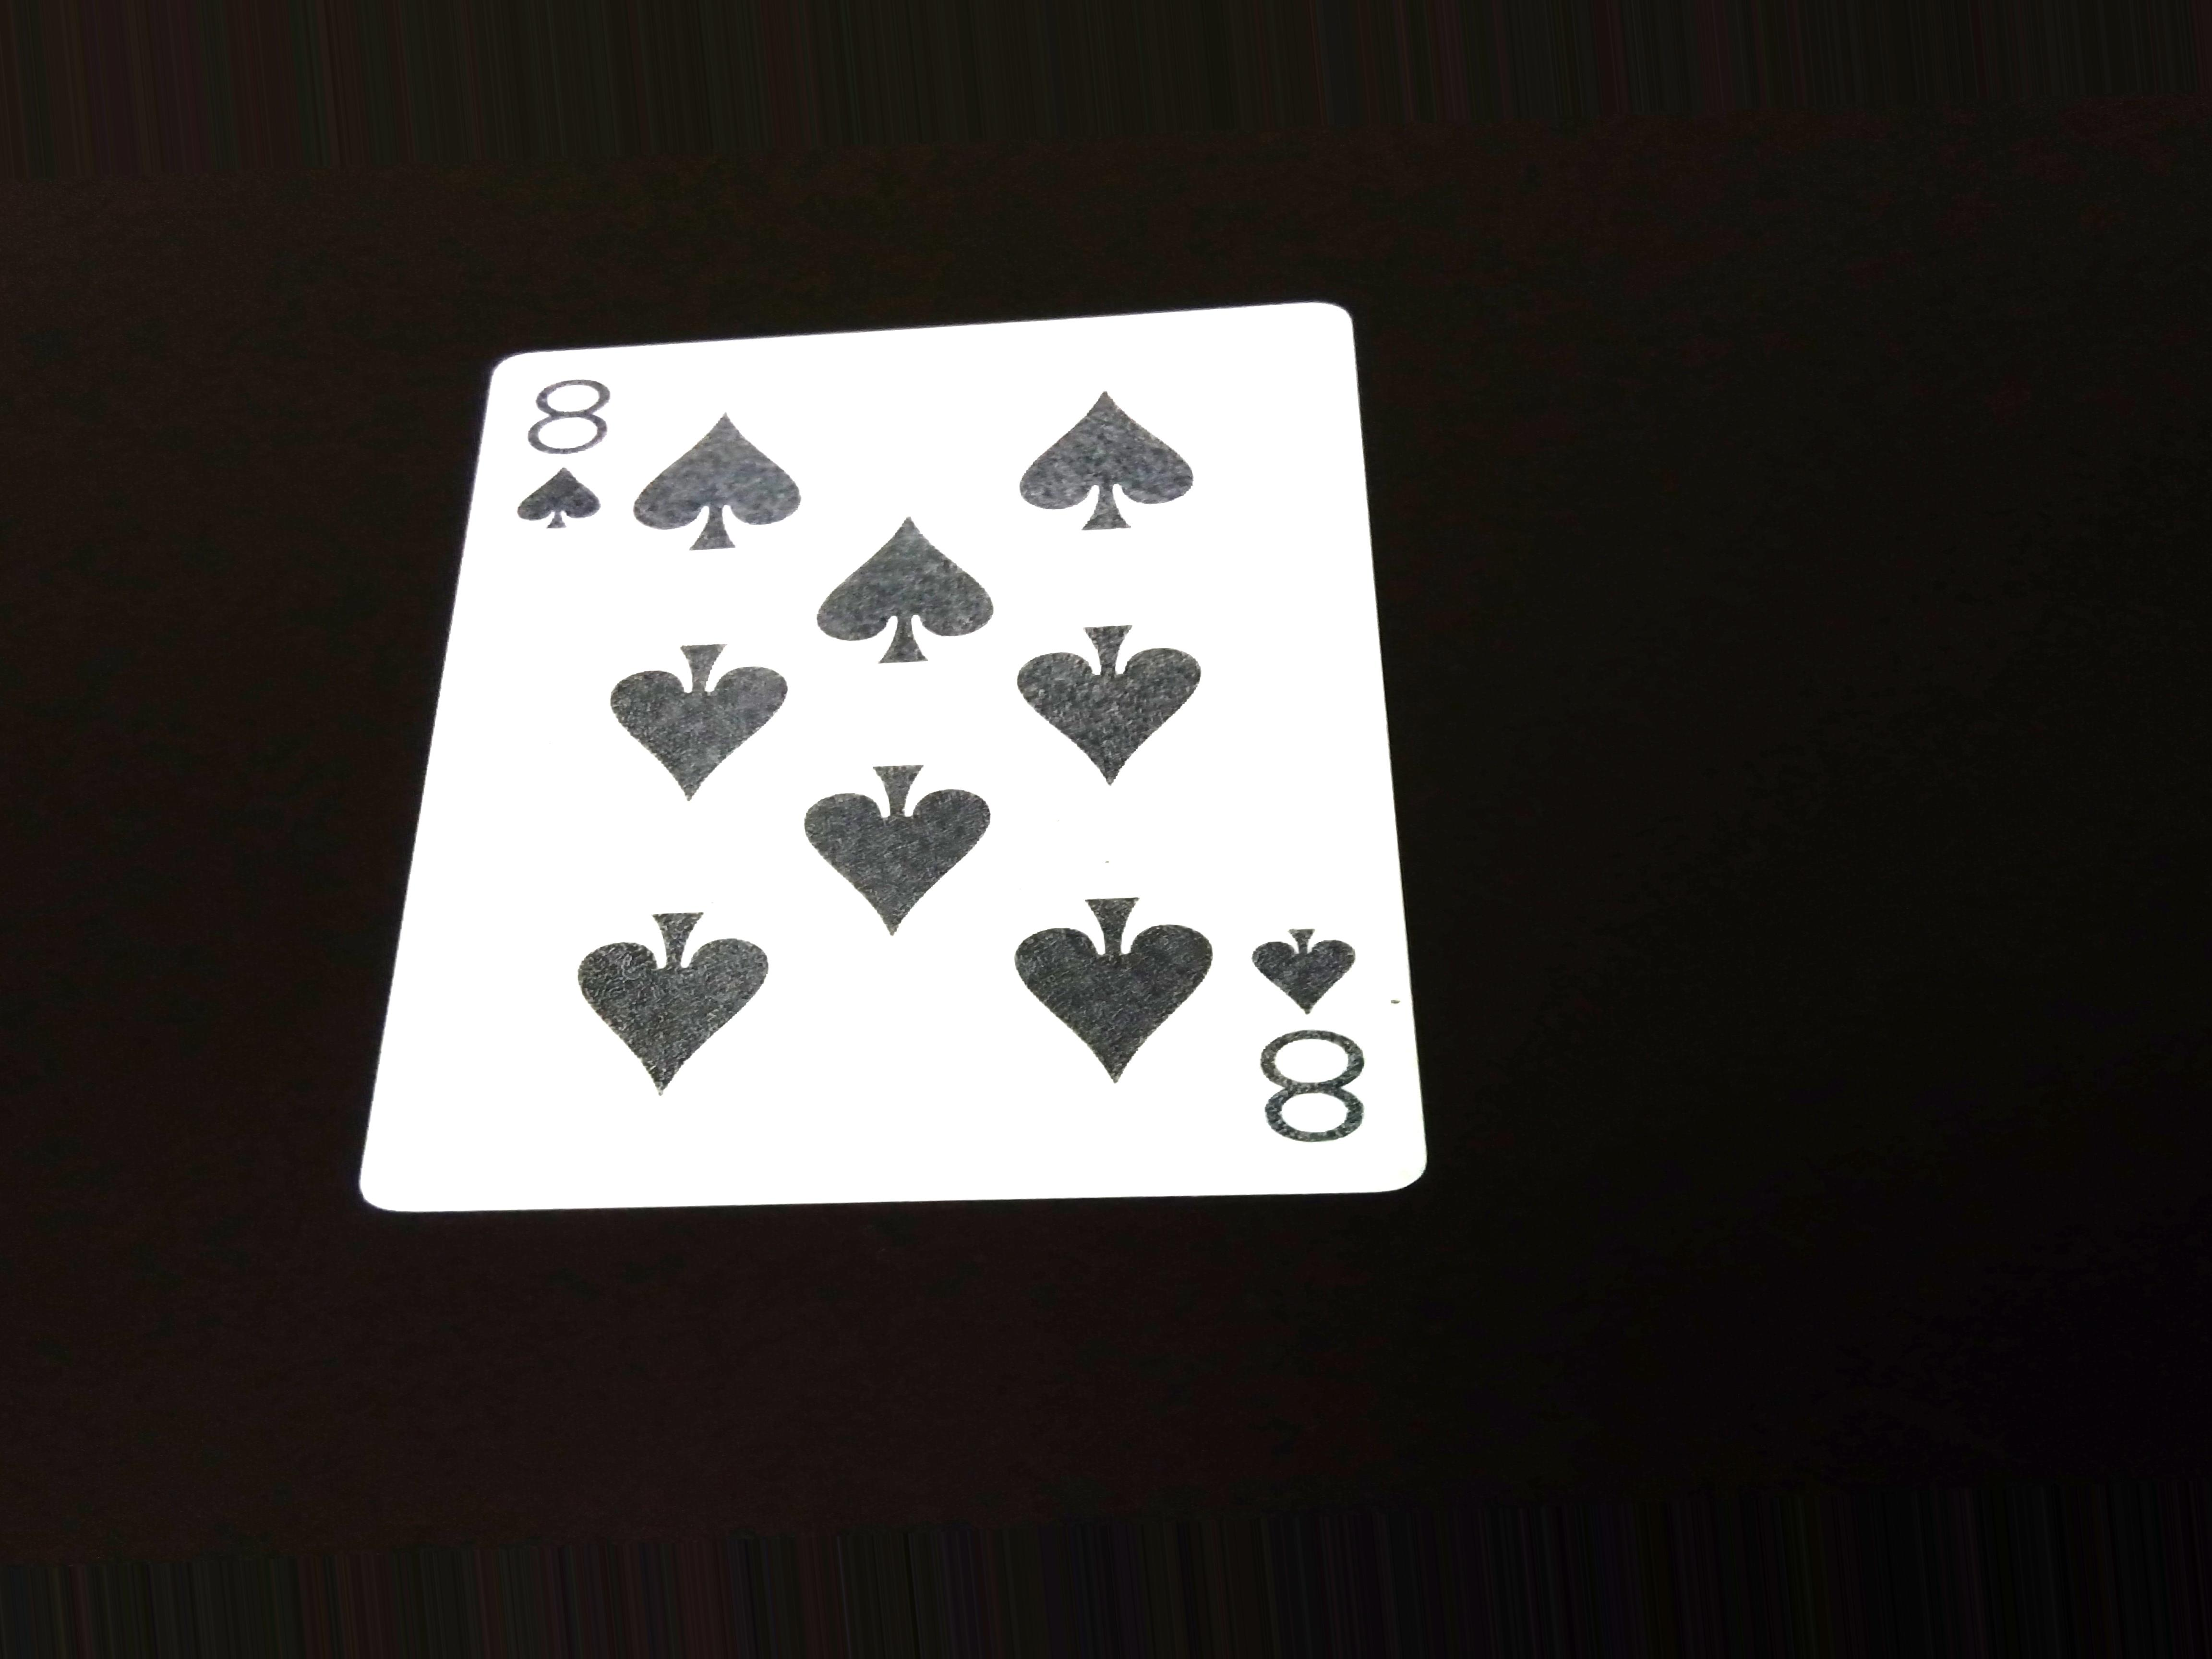8S: (1217, 894, 1418, 1168)
